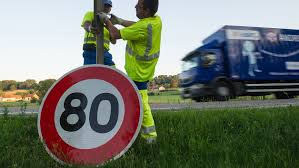Speed_limit_80km: (36, 63, 143, 168)
